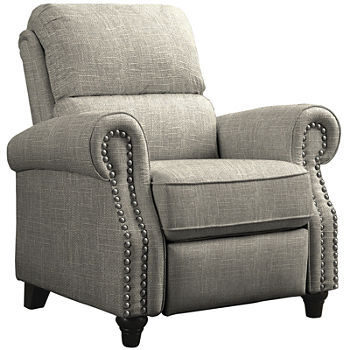chairs: (7, 3, 343, 350)
